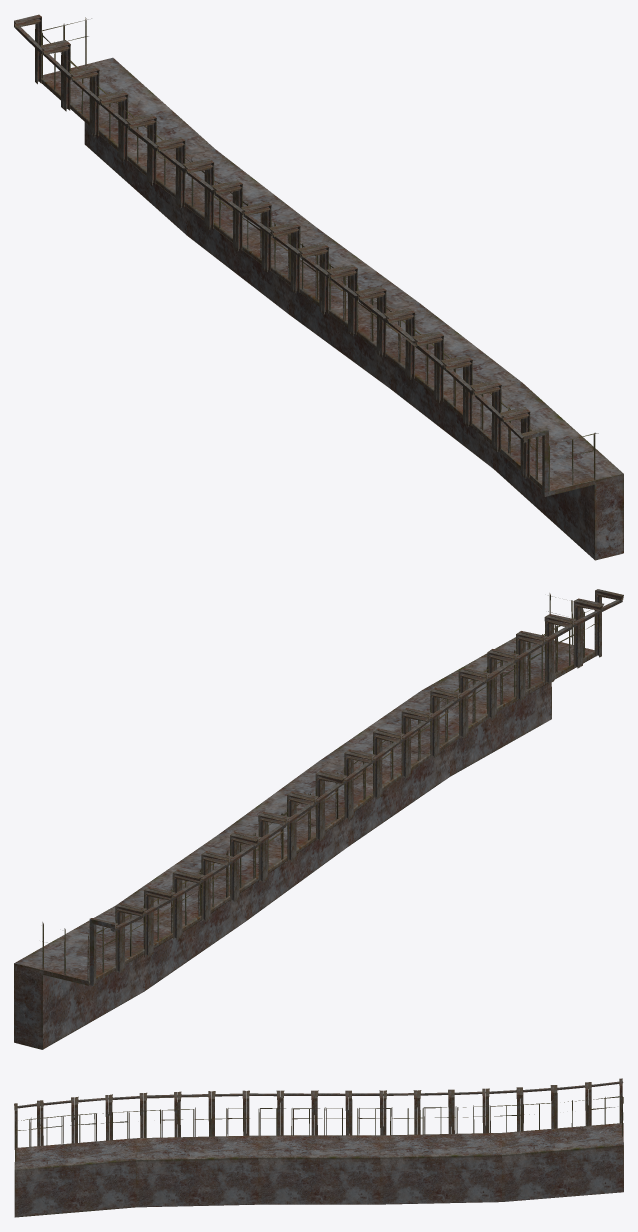
File: SM_Bridge.fbx
3 renders of one model, top to bottom at view 1: azimuth 30°, elevation 25°; view 2: azimuth 150°, elevation 25°; view 3: azimuth 270°, elevation 25°, orthographic. The views are drawn at different scales.
Visible parts, largest first — view 1: SM_Bridge_LOD0; view 2: SM_Bridge_LOD0; view 3: SM_Bridge_LOD0.
Part boxes in pixels (x1,y1,x2,y2): SM_Bridge_LOD0: [14, 14, 623, 560]; SM_Bridge_LOD0: [14, 589, 623, 1049]; SM_Bridge_LOD0: [14, 1078, 623, 1217].
Size of the model in its own units: 135 by 1171 by 233.
1 material, 1 textured.
